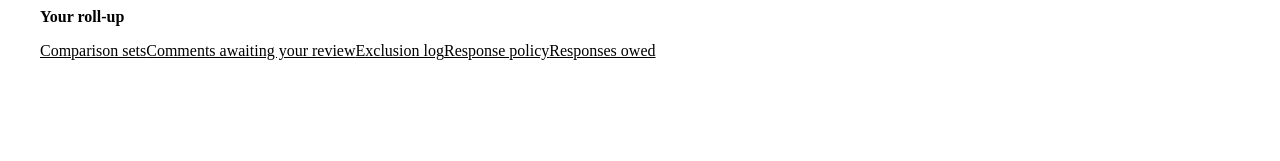
the leadership landing › links to the review queue, and following the link opens it
The width and height of the screenshot is (1280, 161).
Click the link "Comments awaiting your review".
click(251, 50)  # box left=146, top=42, right=356, bottom=59
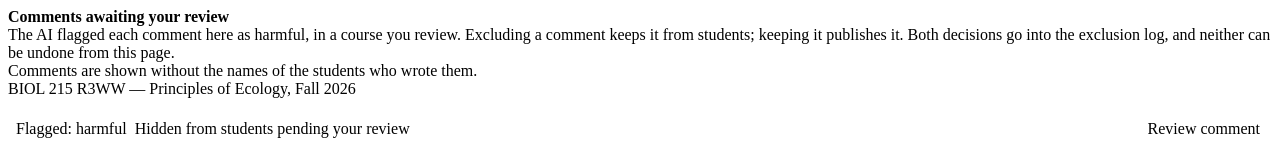
Result: the list with test id "pulse-leadership-review-queue-list" is shown at left=8, top=80, right=1272, bottom=144
